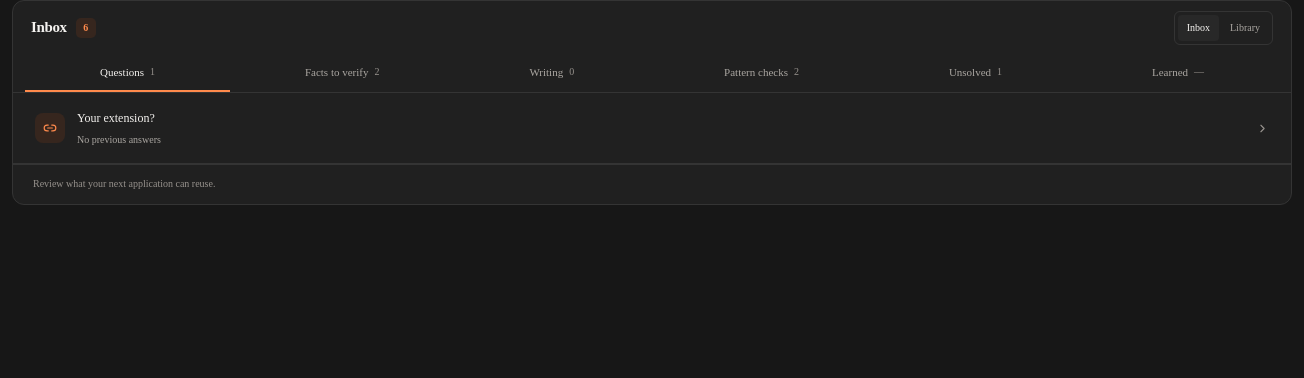
Test case: Inbox uses server fact reasons, failed checks first, and unsolved notes
Step 1. Click the button "Pattern checks 2" → {"x": 762, "y": 74}, box [649,55,874,92]
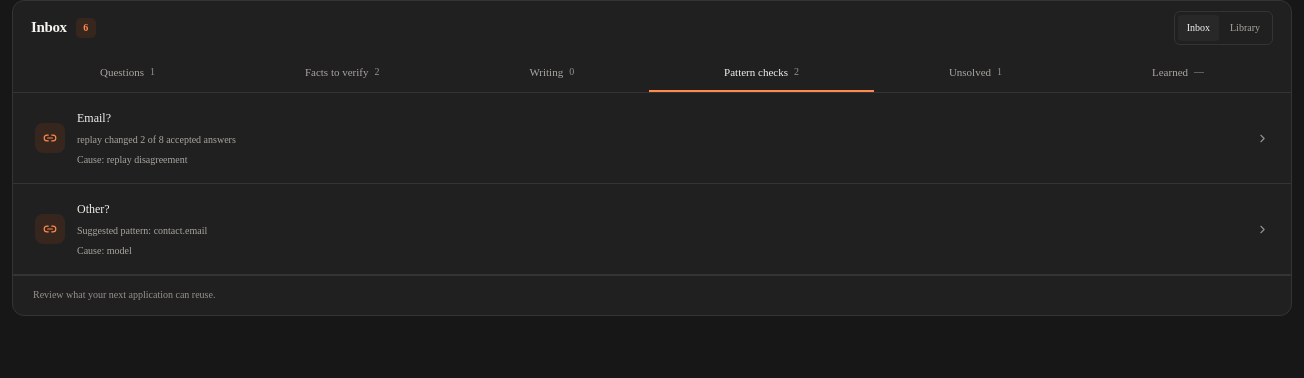
Expected: the text "replay changed 2 of 8 accepted answers" is shown, [77,134,236,145]
Step 2. Click the button "Facts to verify 2" → {"x": 342, "y": 74}, box [230,55,454,92]
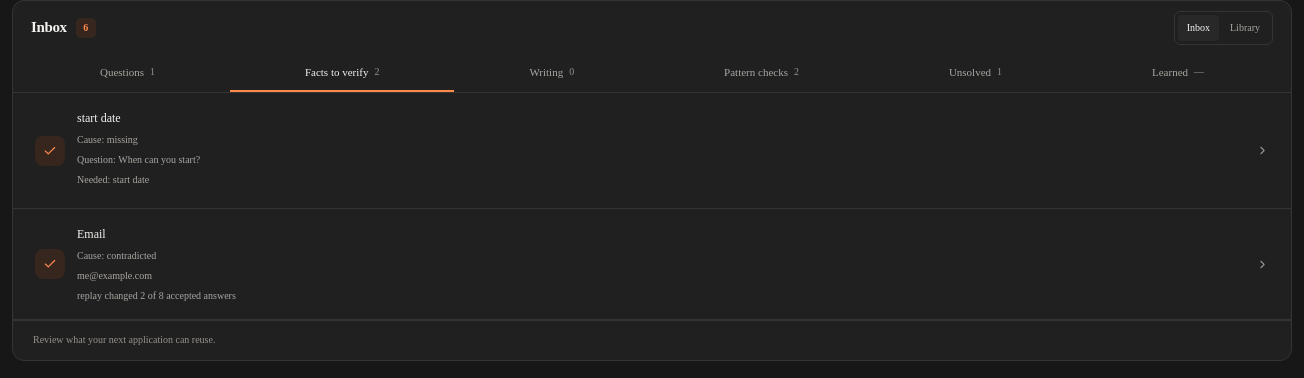
Expected: the text "Question: When can you start?" is shown, [77,154,200,165]
Expected: the text "Needed: start date" is shown, [77,174,149,185]
Step 3. Click the button "Unsolved 1" → {"x": 975, "y": 74}, box [874,55,1077,92]
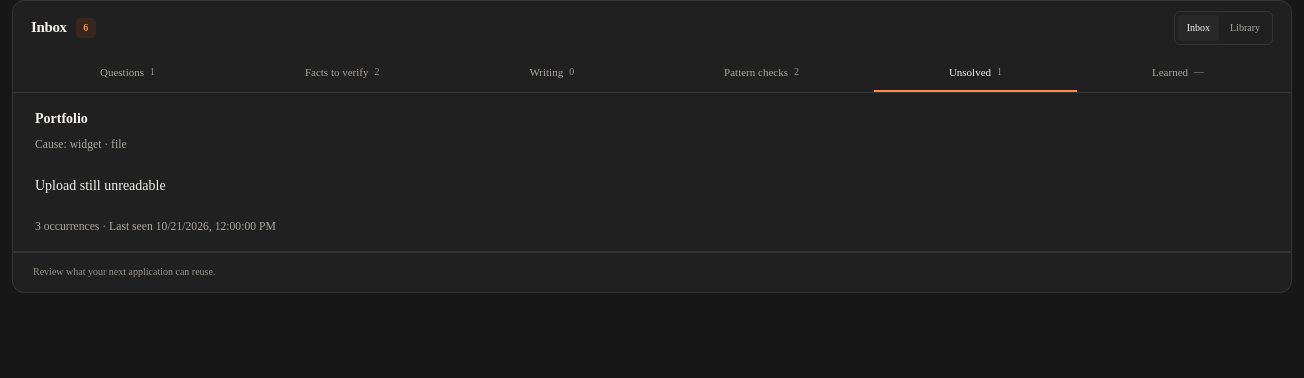
Expected: the text "Upload still unreadable" is shown, [35,178,166,193]
